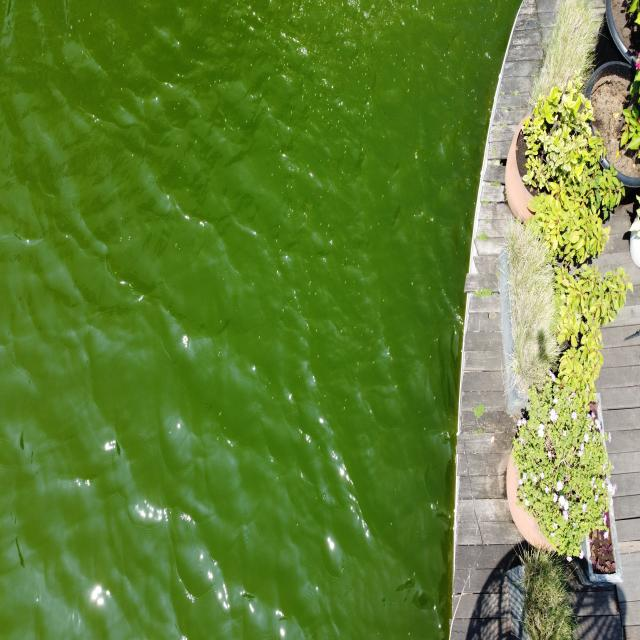Ponds: (1, 1, 554, 640)
